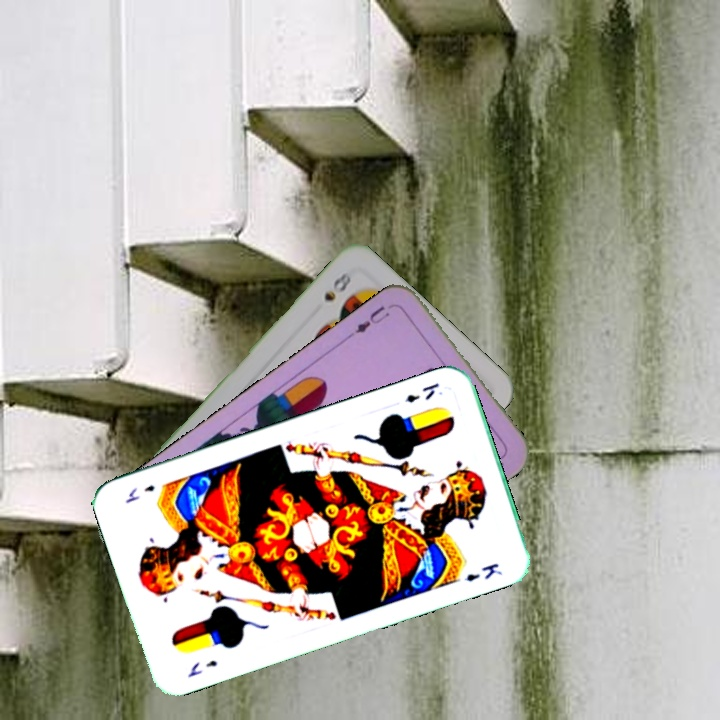EK: (401, 379, 442, 406), (183, 656, 220, 680)
EU: (344, 302, 393, 340)
S8: (319, 267, 354, 304)
